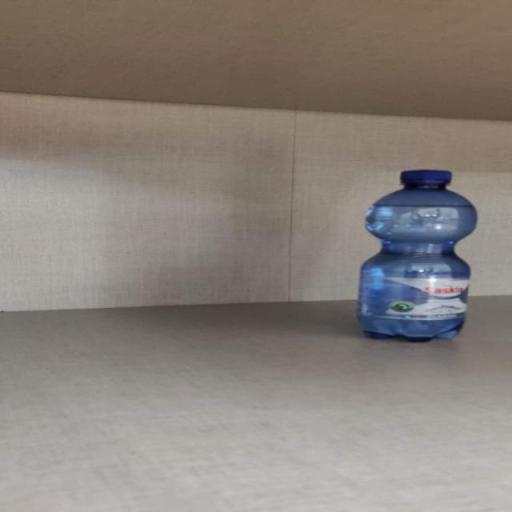plastic: (350, 168, 482, 342)
